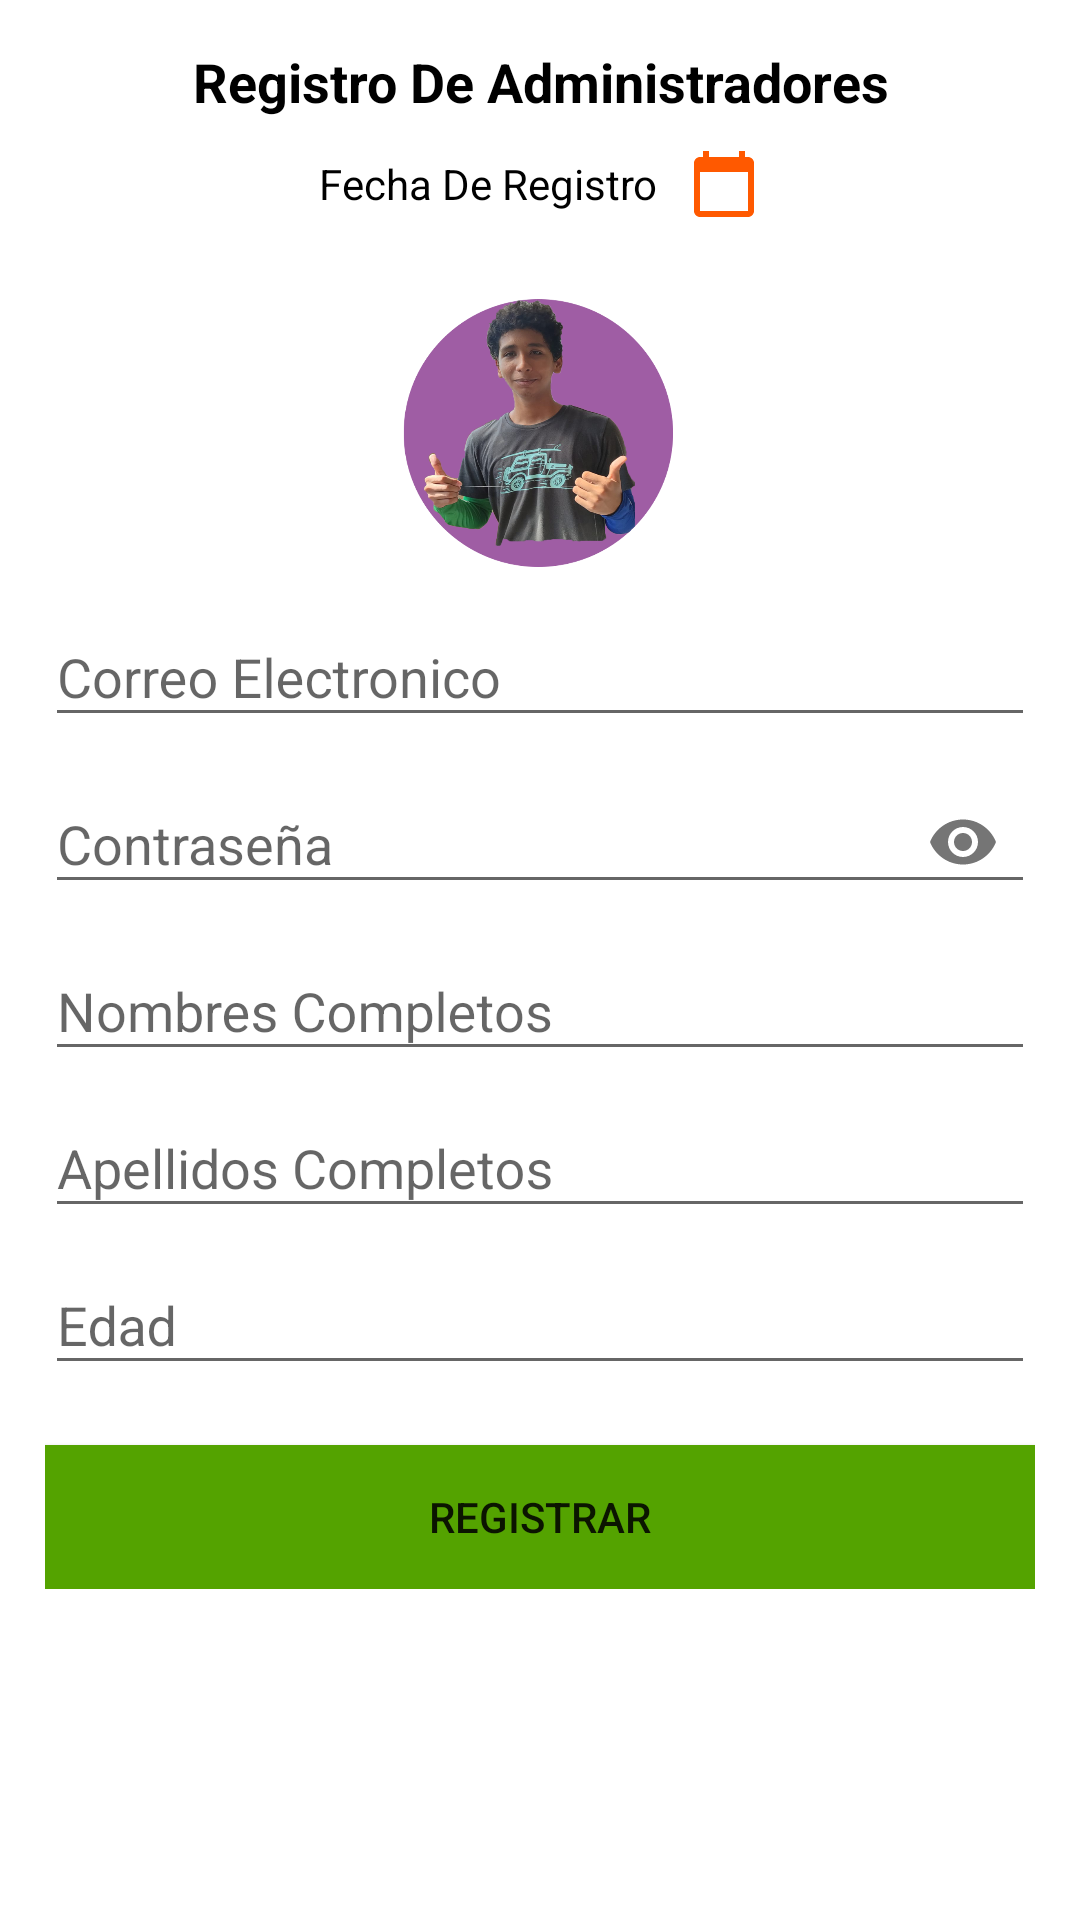

Locate icon controls on the screen. Image size 1080×1920, boxes as [x1=x1, y1=y1, x2=x2, y2=y2].
calendario: [x1=694, y1=151, x2=754, y2=217]
perfil: [x1=404, y1=299, x2=673, y2=567]
